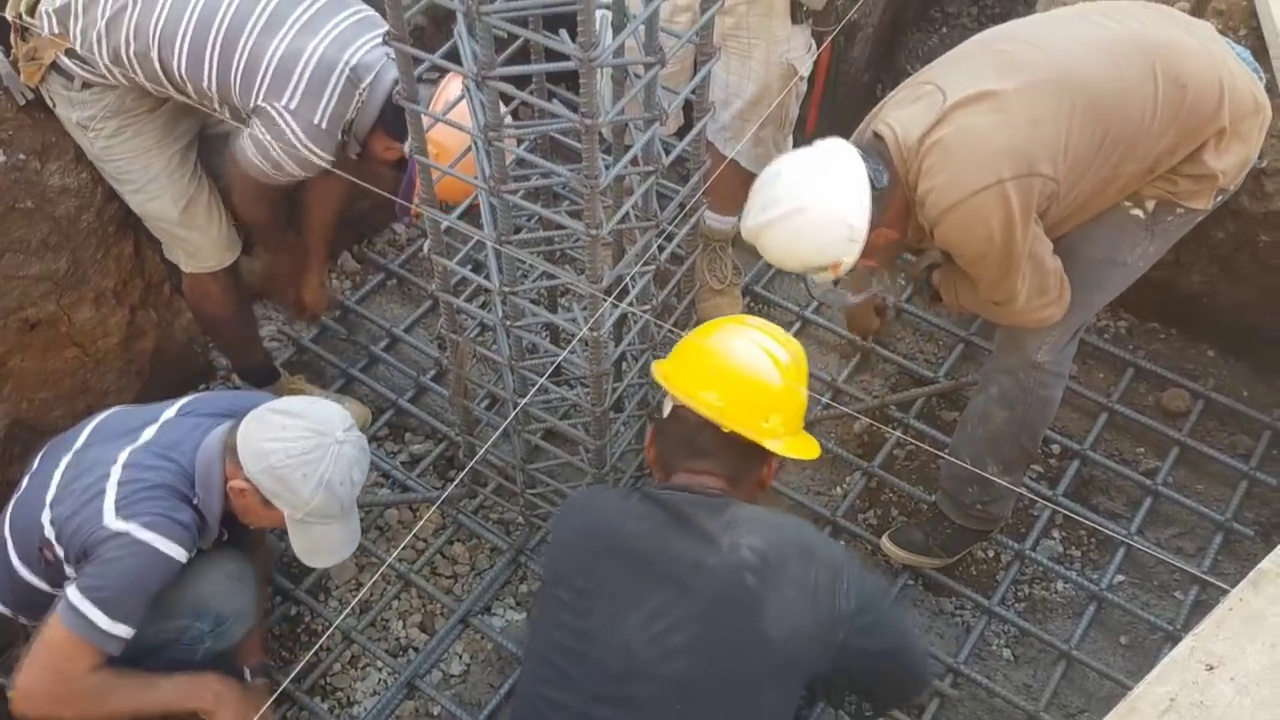helmet: (658, 308, 815, 474), (745, 133, 872, 290), (417, 69, 516, 215), (398, 62, 489, 212)
helmet-off: (214, 393, 359, 575)
helmet-on: (640, 308, 816, 509), (745, 128, 932, 288), (358, 33, 513, 211)
person: (745, 0, 1273, 568), (19, 8, 542, 405), (495, 302, 920, 716), (20, 379, 374, 697)
